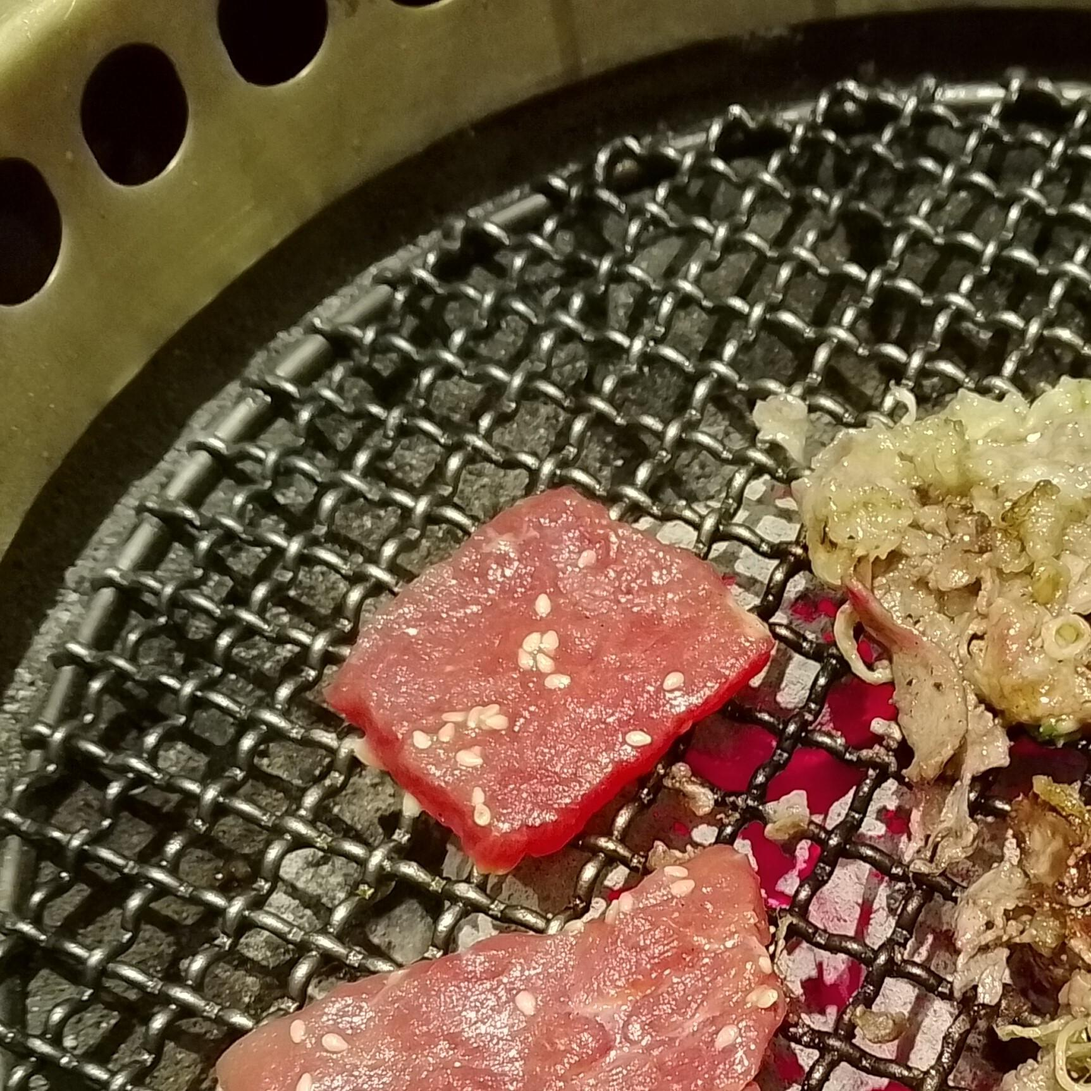Undercooked: (314, 486, 775, 879), (219, 848, 791, 1090)
Well-Cooked: (792, 378, 1090, 835)
